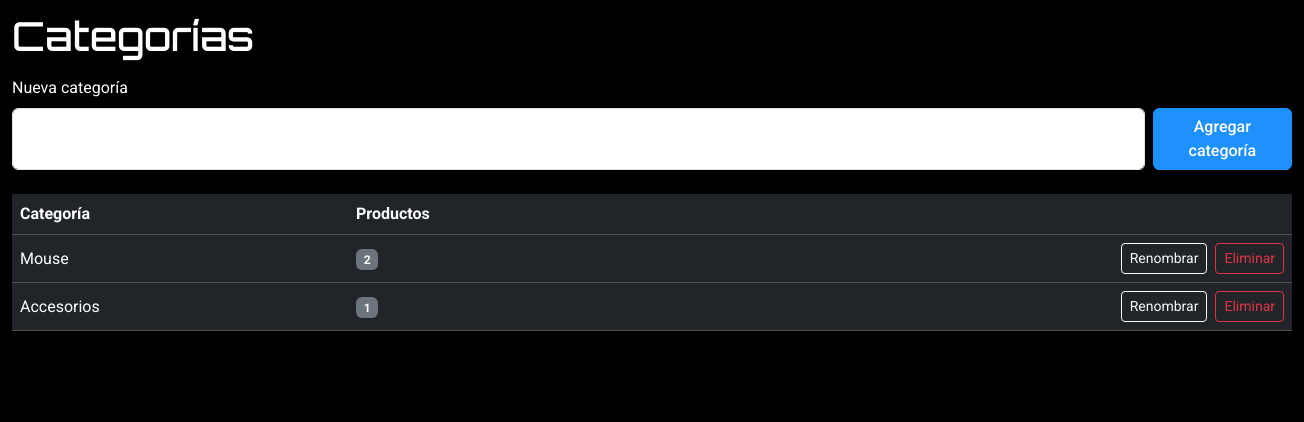
Scenario: AdminCategoriasView › muestra el error si la categoría no se puede eliminar
What coordinates should you click on to do the following:
click the button with aria-label "Eliminar Mouse"
I would click on:
 (1250, 258)
Its box is [1216,243,1284,274].
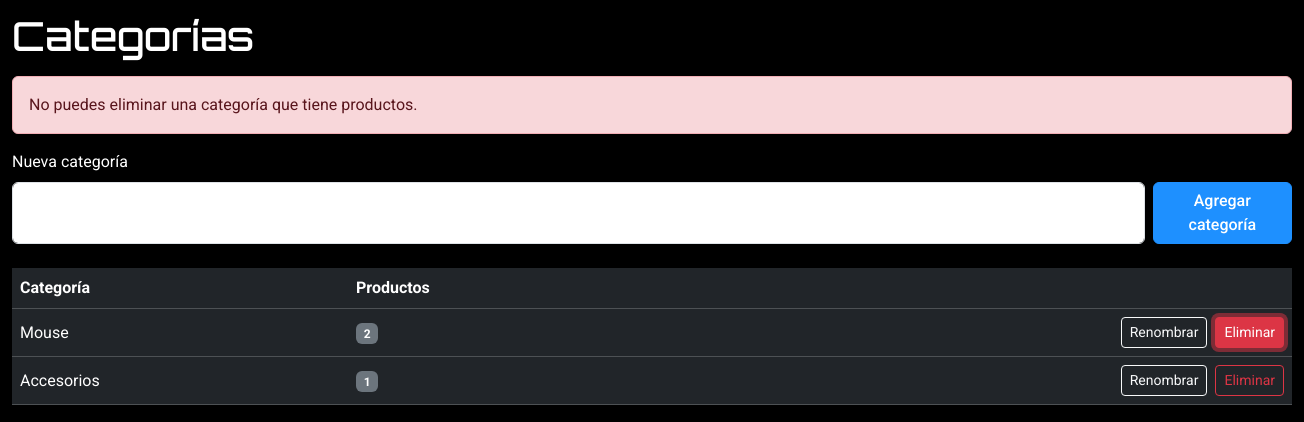
expect the message reads "No puedes eliminar una categoría que tiene productos.": met, box [29,95,418,114]
